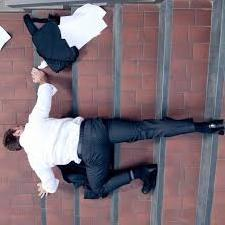fall: (7, 70, 222, 199)
